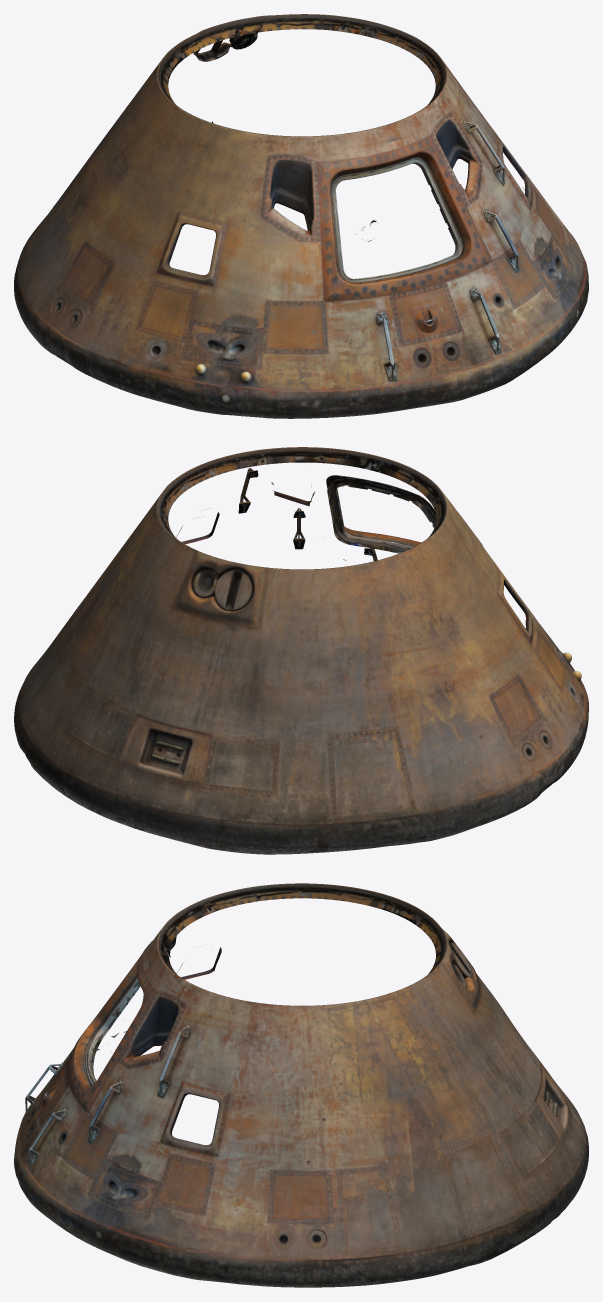
Rendered from apollo-11-module.glb.
The picture shows the model from 3 angles, top to bottom: view 1: azimuth 30°, elevation 25°; view 2: azimuth 150°, elevation 25°; view 3: azimuth 270°, elevation 25°; orthographic projection.
Size of the model in its own units: 391 by 212 by 392.
1 material, 1 textured.
